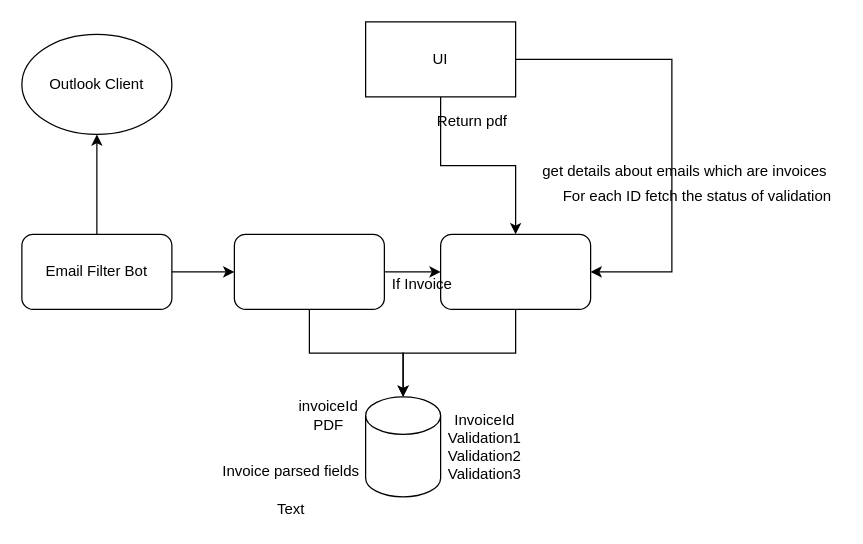
This 863x544 diagram has some shape labels left out. The shapes that lost their labels are listed below. From the top down, each one's box as (x1, y1, x2, y2) in pixels, then its label:
(233, 233, 384, 309): Invoice parser
(439, 233, 591, 309): Invoice validation
